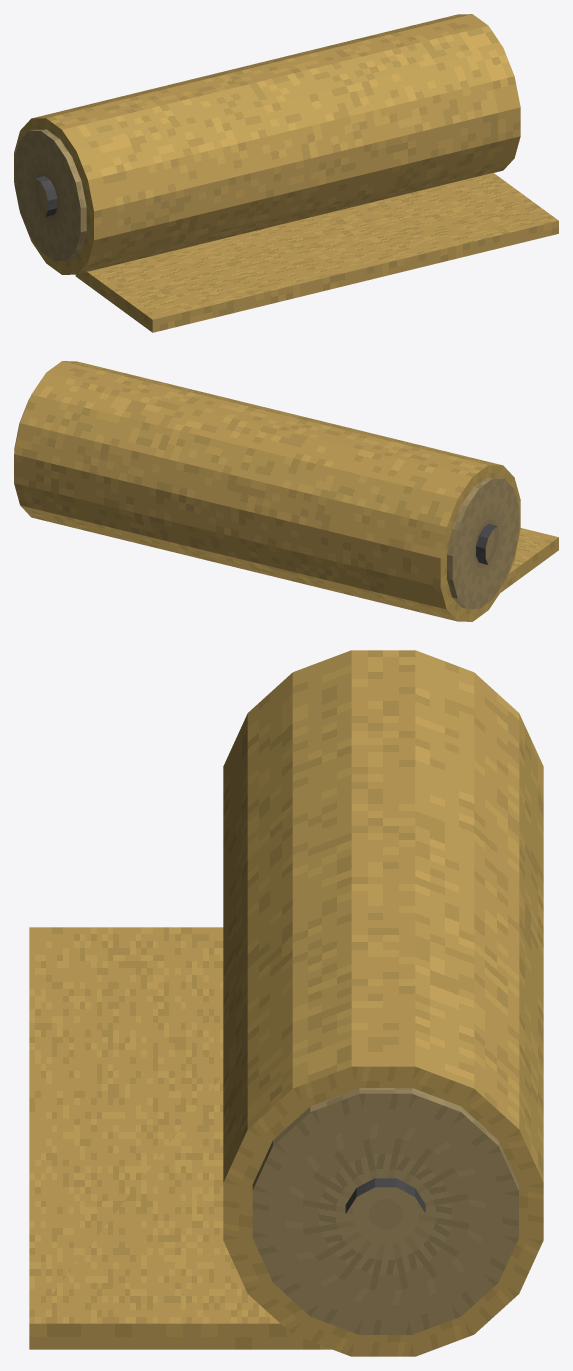
File: y_carpet.glb
The picture shows the model from 3 angles, top to bottom: view 1: azimuth 30°, elevation 25°; view 2: azimuth 150°, elevation 25°; view 3: azimuth 270°, elevation 25°; orthographic projection. The views are drawn at different scales.
Parts seen in each view (by area): view 1: block_rolled carpet, block_unrolled carpet edge, block_exposed roll edge, block_dark roll core; view 2: block_rolled carpet, block_exposed roll edge, block_unrolled carpet edge, block_dark roll core; view 3: block_rolled carpet, block_unrolled carpet edge, block_exposed roll edge.
Part boxes in pixels (x1,y1,x2,y2): block_rolled carpet: (14,14,520,274); block_unrolled carpet edge: (75,173,558,332); block_exposed roll edge: (14,129,86,261); block_dark roll core: (36,176,57,217); block_rolled carpet: (14,361,520,621); block_exposed roll edge: (447,477,519,608); block_unrolled carpet edge: (500,528,558,592); block_dark roll core: (476,524,497,565); block_rolled carpet: (223,650,543,1356); block_unrolled carpet edge: (29,927,331,1349); block_exposed roll edge: (252,1088,518,1334).
Size of the model in its own units: 0.3719 by 0.1138 by 0.181.
1 material, 1 textured.
